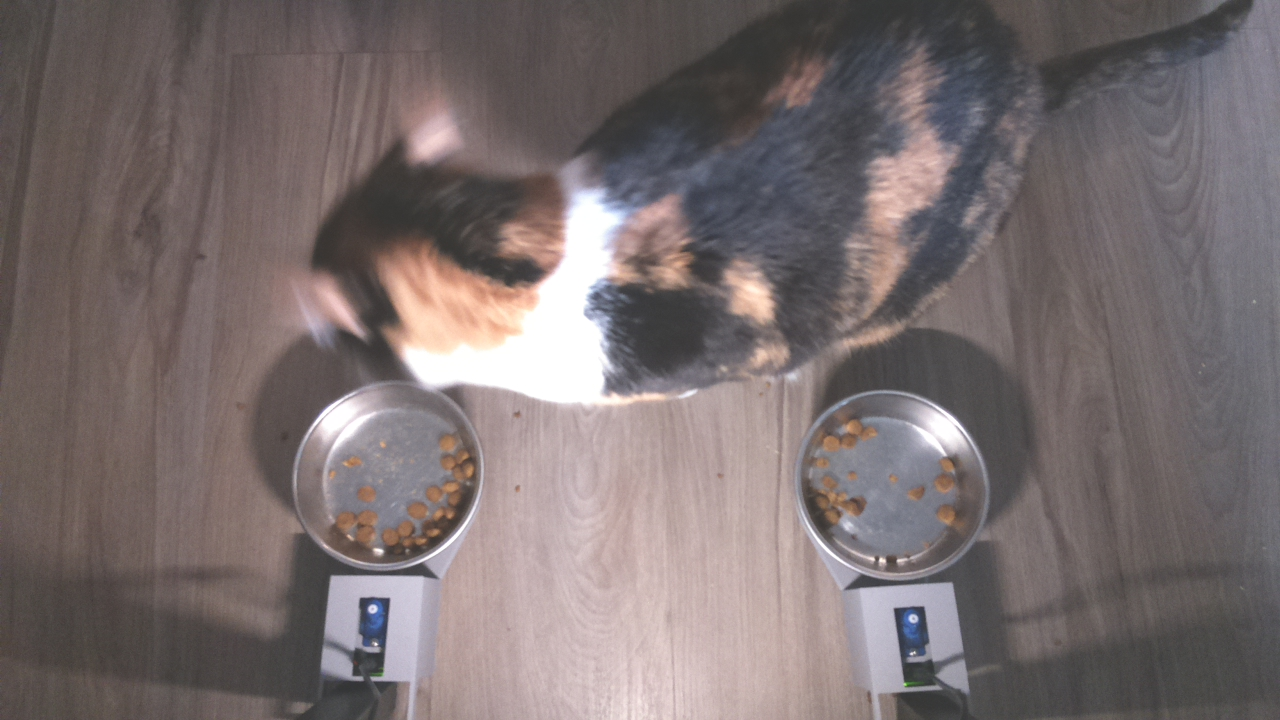bella: (277, 57, 621, 409)
open_bowl: (286, 377, 489, 577), (791, 389, 990, 582)
